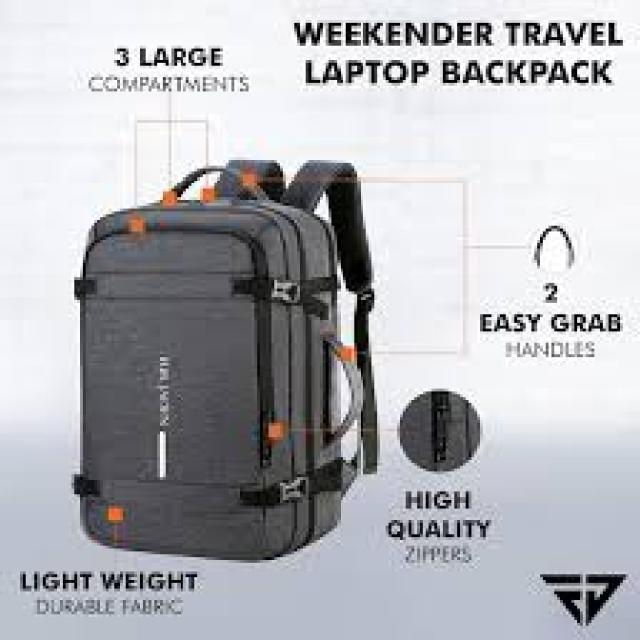backpack: (73, 158, 378, 561)
